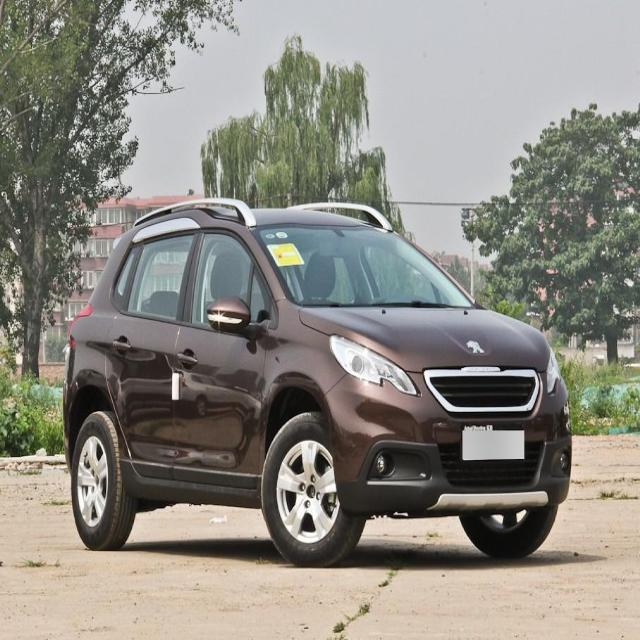back_right_side_light: (67, 302, 94, 354)
door: (105, 226, 209, 492)
front_bumper: (323, 417, 575, 516)
front_glass: (251, 223, 474, 312)
front_left_side_light: (542, 344, 562, 396)
front_right_side_door: (170, 222, 274, 497)
front_right_side_light: (330, 332, 421, 396)
front_right_side_mirror: (206, 294, 252, 336)
wheel: (261, 411, 363, 570), (70, 411, 134, 550), (459, 504, 560, 562)
